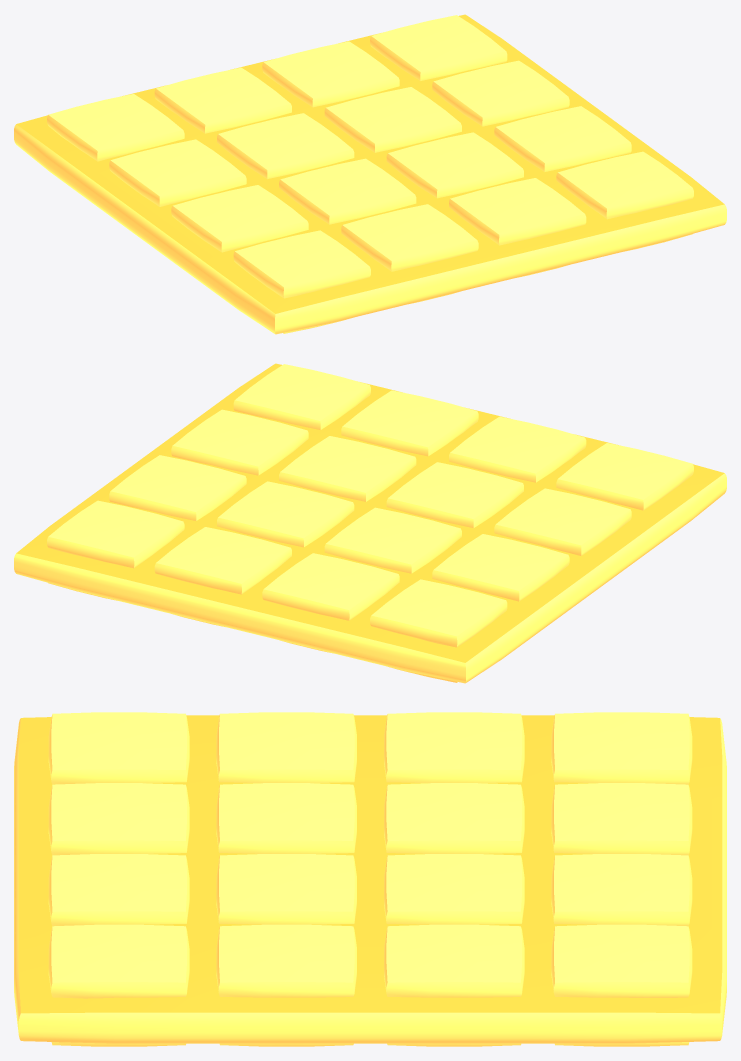
The picture shows the model from 3 angles, top to bottom: view 1: azimuth 30°, elevation 25°; view 2: azimuth 150°, elevation 25°; view 3: azimuth 270°, elevation 25°; orthographic projection. The views are drawn at different scales.
Parts seen in each view (by area): view 1: Wafer-whole; view 2: Wafer-whole; view 3: Wafer-whole.
Part boxes in pixels (x1,y1,x2,y2): Wafer-whole: [14, 14, 726, 334]; Wafer-whole: [14, 363, 726, 683]; Wafer-whole: [14, 712, 726, 1046].
Bounding box in the file's own units: 1.09 × 0.1167 × 1.09.
